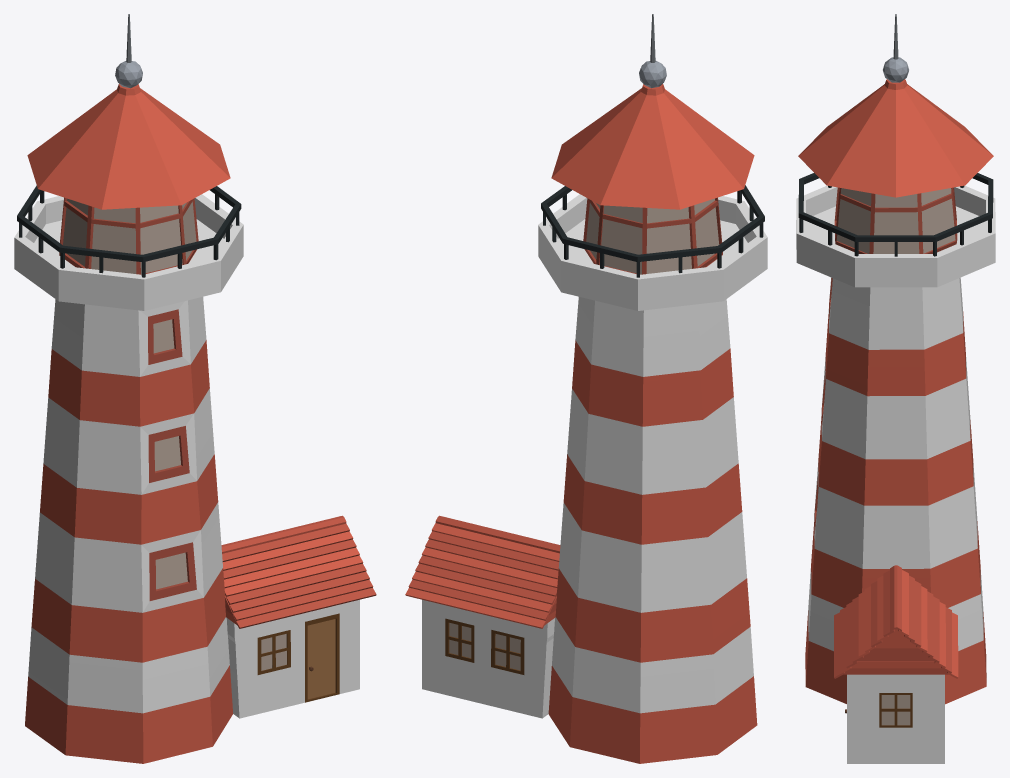
File: Lighthouse_01.fbx
3 views of the same model, side by side, from view 1: azimuth 30°, elevation 25°; view 2: azimuth 150°, elevation 25°; view 3: azimuth 270°, elevation 25° (orthographic). The views are drawn at different scales.
Visible parts, largest first — view 1: Lighthouse_01; view 2: Lighthouse_01; view 3: Lighthouse_01.
Boxes of the visible parts, bbox=[...] form: Lighthouse_01: bbox=[14, 14, 376, 763]; Lighthouse_01: bbox=[405, 14, 767, 763]; Lighthouse_01: bbox=[796, 14, 995, 763].
Size of the model in its own units: 842 by 1850 by 509.
